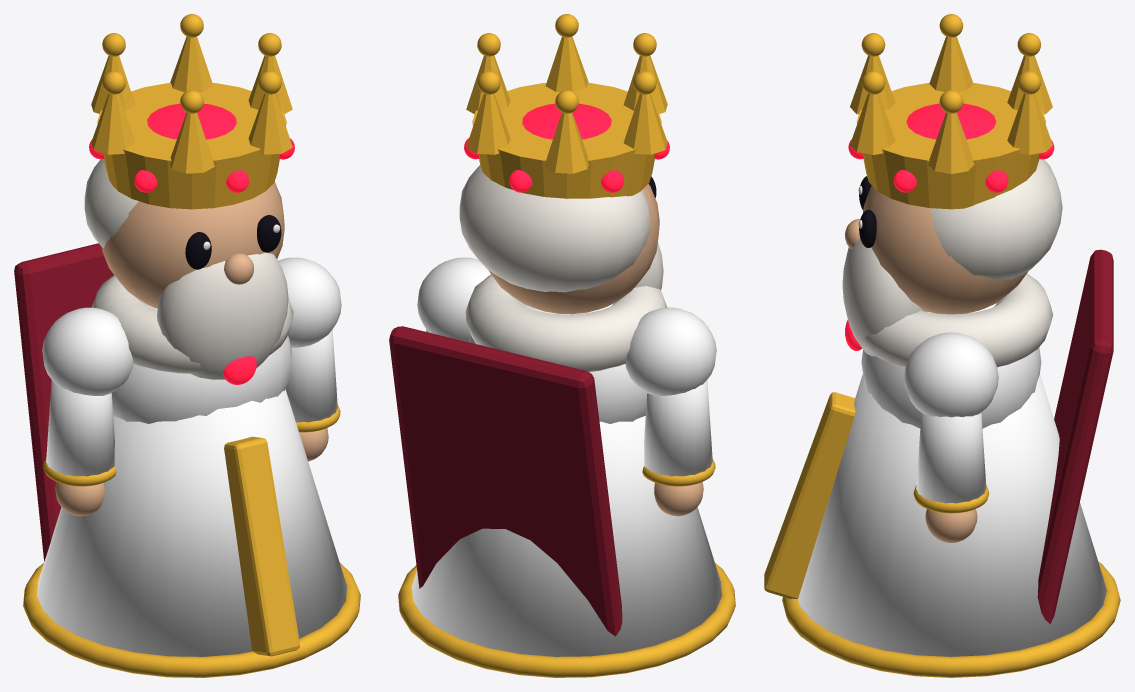
File: king.glb
The picture shows the model from 3 angles, left to right: view 1: azimuth 30°, elevation 25°; view 2: azimuth 150°, elevation 25°; view 3: azimuth 270°, elevation 25°; orthographic projection.
Visible parts, largest first — view 1: robe, crownband, beard, skull, stripe, cape, hem, chest, shoulder, sleeve, fur, shoulder.001 (+16 smaller); view 2: cape, robe, hair, fur, crownband, hem, shoulder, sleeve, skull, shoulder.001, chest, crownin (+9 smaller); view 3: robe, cape, crownband, hair, skull, hem, fur, stripe, shoulder.001, sleeve.001, chest, beard (+10 smaller).
Part boxes in pixels (left/top/right/bottom): robe: left=37, top=389, right=346, bottom=656; crownband: left=97, top=83, right=286, bottom=209; beard: left=157, top=252, right=288, bottom=379; skull: left=101, top=181, right=284, bottom=308; stripe: left=224, top=436, right=299, bottom=656; cape: left=14, top=243, right=113, bottom=561; hem: left=23, top=562, right=360, bottom=677; chest: left=111, top=303, right=291, bottom=423; shoulder: left=42, top=307, right=133, bottom=395; sleeve: left=46, top=380, right=114, bottom=476; fur: left=91, top=275, right=293, bottom=373; shoulder.001: left=278, top=257, right=341, bottom=347; cape: left=389, top=326, right=622, bottom=636; robe: left=412, top=416, right=721, bottom=656; hair: left=459, top=165, right=650, bottom=292; fur: left=465, top=274, right=667, bottom=371; crownband: left=472, top=83, right=661, bottom=198; hem: left=398, top=563, right=735, bottom=677; shoulder: left=625, top=307, right=716, bottom=395; sleeve: left=644, top=380, right=712, bottom=476; skull: left=488, top=184, right=659, bottom=314; shoulder.001: left=417, top=257, right=490, bottom=342; chest: left=469, top=301, right=647, bottom=423; crownin: left=522, top=103, right=611, bottom=139; robe: left=798, top=374, right=1106, bottom=656; cape: left=1037, top=249, right=1113, bottom=623; crownband: left=856, top=83, right=1045, bottom=209; hair: left=930, top=159, right=1062, bottom=280; skull: left=863, top=185, right=1028, bottom=314; hem: left=782, top=561, right=1120, bottom=677; fur: left=862, top=274, right=1052, bottom=367; stripe: left=764, top=392, right=855, bottom=598; shoulder.001: left=904, top=332, right=998, bottom=417; sleeve.001: left=916, top=412, right=986, bottom=503; chest: left=861, top=303, right=1041, bottom=428; beard: left=842, top=238, right=927, bottom=356.
Bounding box in the file's own units: 1.43 × 2.64 × 1.51.
